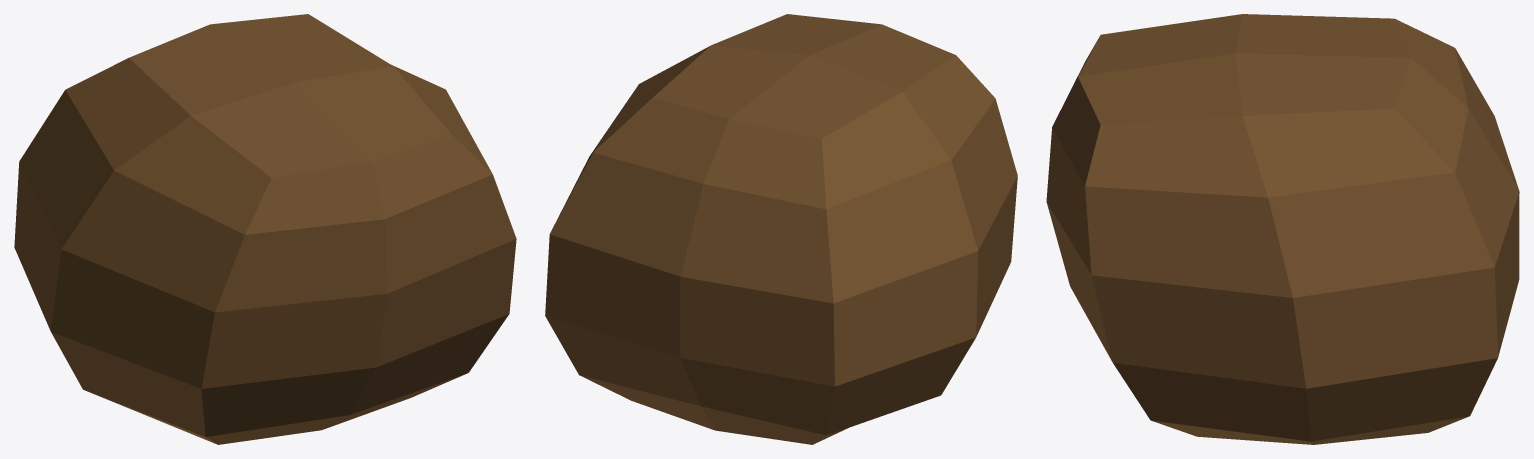
File: pedra3.fbx
The picture shows the model from 3 angles, left to right: view 1: azimuth 30°, elevation 25°; view 2: azimuth 150°, elevation 25°; view 3: azimuth 270°, elevation 25°; orthographic projection. The views are drawn at different scales.
Parts seen in each view (by area): view 1: Cubo.003; view 2: Cubo.003; view 3: Cubo.003.
Boxes of the visible parts, bbox=[...] form: Cubo.003: bbox=[14, 14, 516, 444]; Cubo.003: bbox=[545, 14, 1017, 444]; Cubo.003: bbox=[1046, 14, 1519, 444].
Size of the model in its own units: 310 by 236 by 292.
